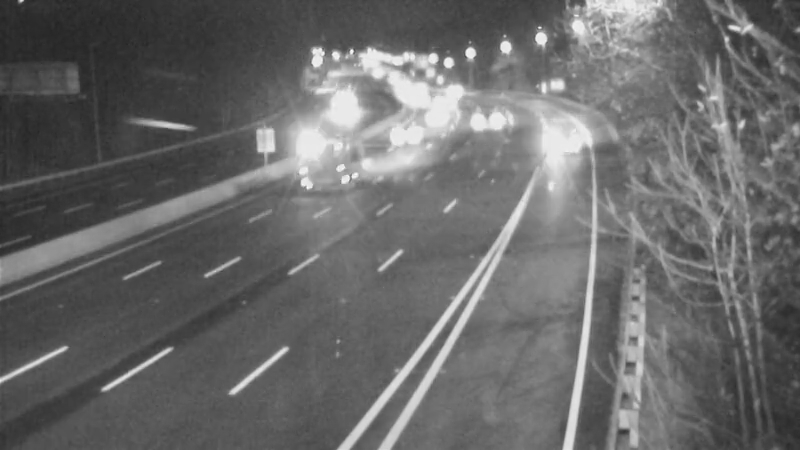vehicle: (287, 120, 367, 200), (430, 64, 480, 114), (393, 73, 443, 123), (415, 77, 465, 127), (410, 93, 460, 143), (457, 97, 507, 147), (376, 112, 426, 162), (536, 113, 586, 163), (309, 84, 359, 134)
